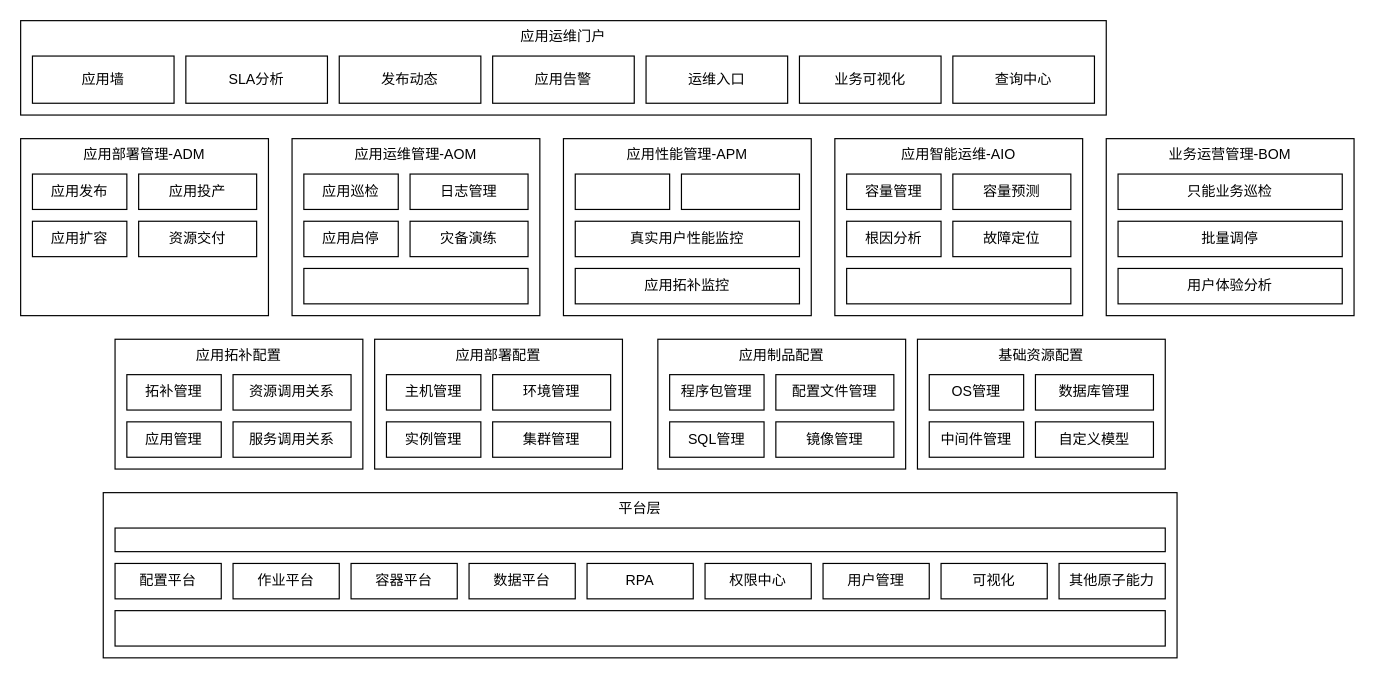
The diagram is 1375 pixels wide and 679 high, and some of its shapes have lost their labels. The shapes that lost their labels are listed below. From the top down, each one's centre as x and y in pixels, then its label:
At (x=622, y=191): "主动拨测".
At (x=739, y=191): "调用链监控".
At (x=415, y=285): "应用健康监控".
At (x=958, y=285): "智能扩缩容".
At (x=639, y=539): "iPaas+aPaaS".
At (x=639, y=627): "管控接入".
